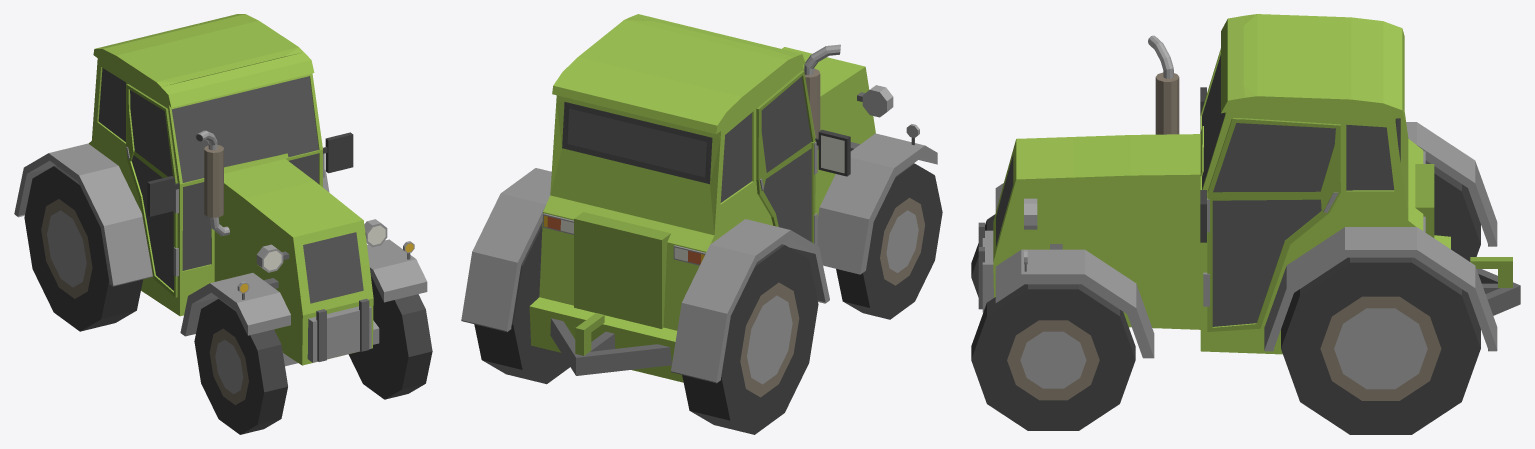
Rendered from kar1_2.fbx.
The picture shows the model from 3 angles, left to right: view 1: azimuth 30°, elevation 25°; view 2: azimuth 150°, elevation 25°; view 3: azimuth 270°, elevation 25°; orthographic projection. The views are drawn at different scales.
Visible parts, largest first — view 1: Boole_3, Cylinder_5, Cylinder_2, Cylinder; view 2: Boole_3, Cylinder_5, Cylinder_2, Cylinder_1; view 3: Boole_3, Cylinder_1, Cylinder, Cylinder_5.
Boxes of the visible parts, x1,y1,x2,y2 form: Boole_3: (14,14,427,366); Cylinder_5: (24,165,143,331); Cylinder_2: (194,298,287,434); Cylinder: (348,277,432,399); Boole_3: (461,14,937,383); Cylinder_5: (682,244,818,434); Cylinder_2: (836,163,942,319); Cylinder_1: (474,221,569,384); Boole_3: (978,14,1520,358); Cylinder_1: (1281,257,1480,434); Cylinder: (971,284,1135,430); Cylinder_5: (1425,160,1480,261).
Bounding box in the file's own units: 213 × 255 × 387.
